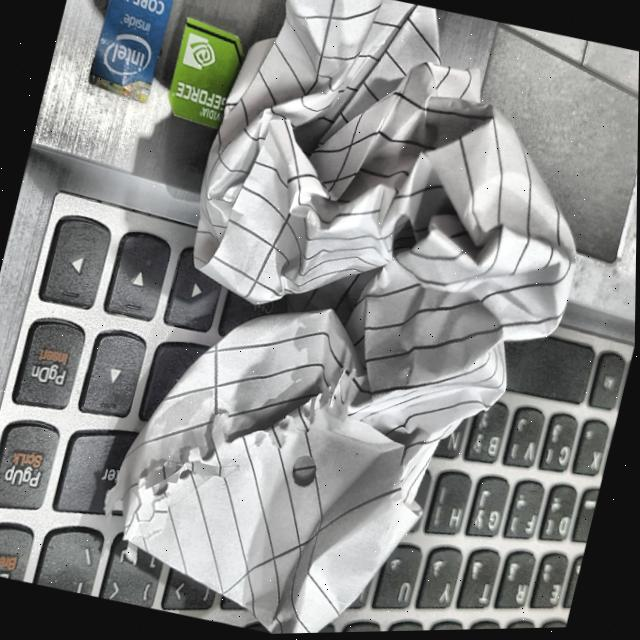paper: (109, 0, 625, 638)
